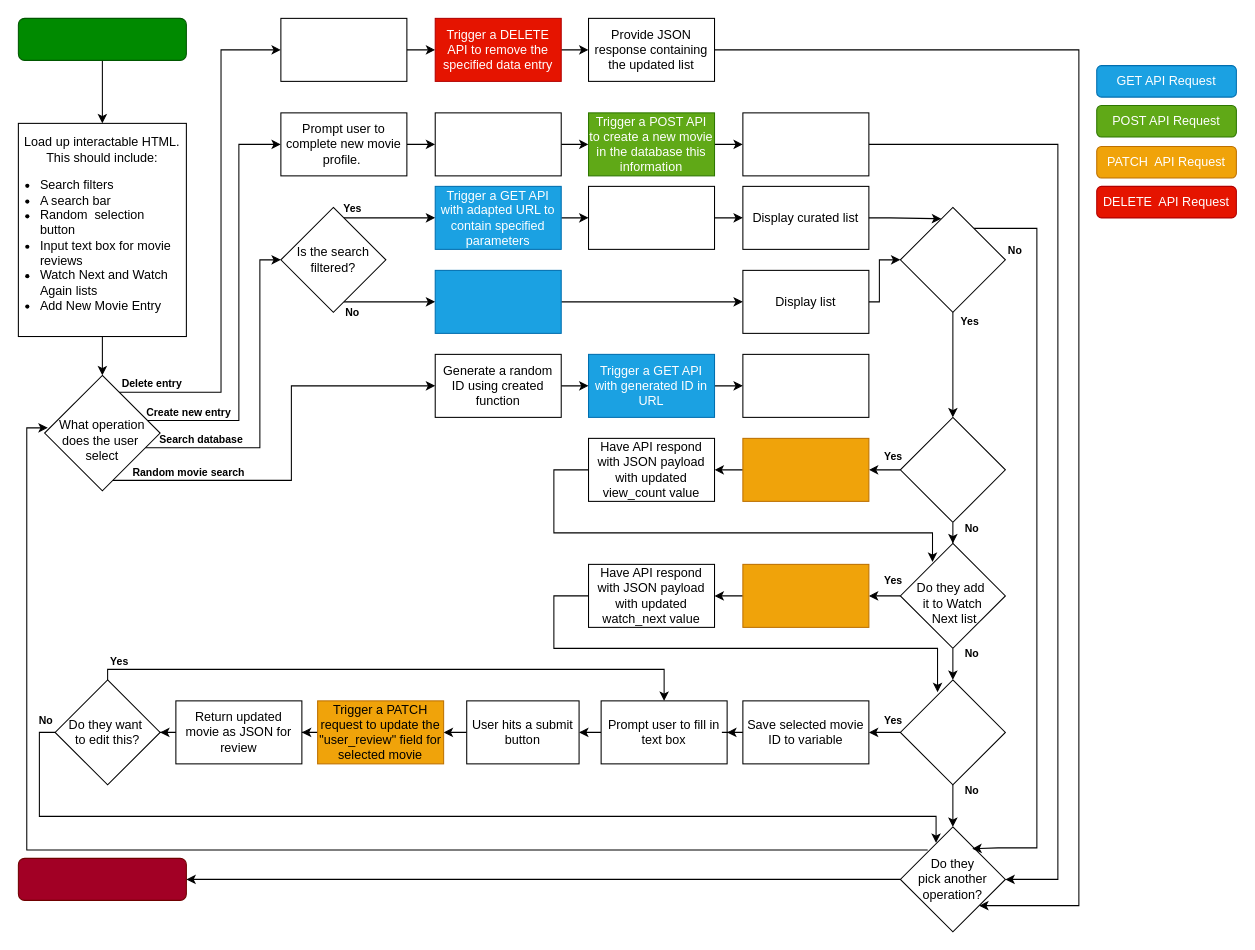
This 1255x950 diagram has some shape labels left out. The shapes that lost their labels are listed below. From the top down, each one's centre as x and y in pixels, then its label:
the point at 101,38: User goes to localhost:3000
the point at 343,49: Prompt user to give a specific ID
the point at 497,144: Isolate the relevant details and assign them to appropriate keys
the point at 805,144: Provide JSON response containing the new movie object
the point at 651,217: Have API respond with JSON payload containing filtered movies
the point at 952,259: Does the user select a movie?
the point at 497,301: Trigger a GET API to return full data set
the point at 805,385: Have API respond with JSON payload containing selected movie
the point at 805,469: Trigger a PATCH API to increment the view_count property by 1.
the point at 952,469: Do they watch the movie?
the point at 805,595: Trigger a PATCH API to set watch_next value to 'true'
the point at 952,732: Do they select "Write a review"
the point at 101,878: End processes
